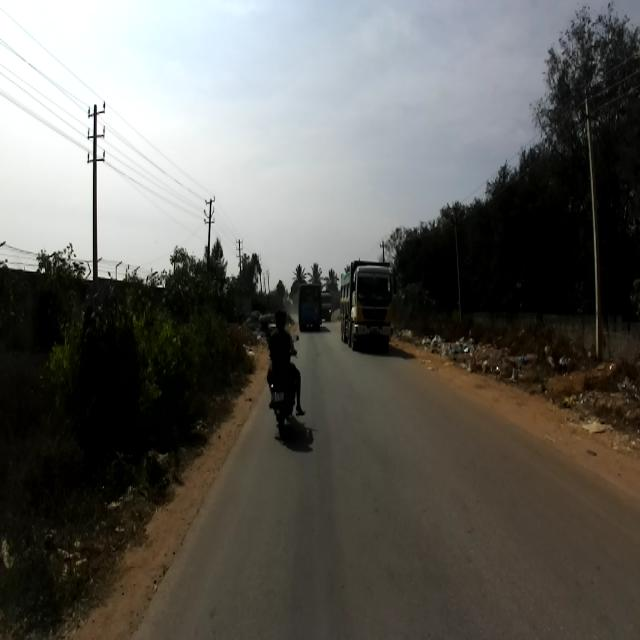truck ahead at: (335, 260, 399, 356)
